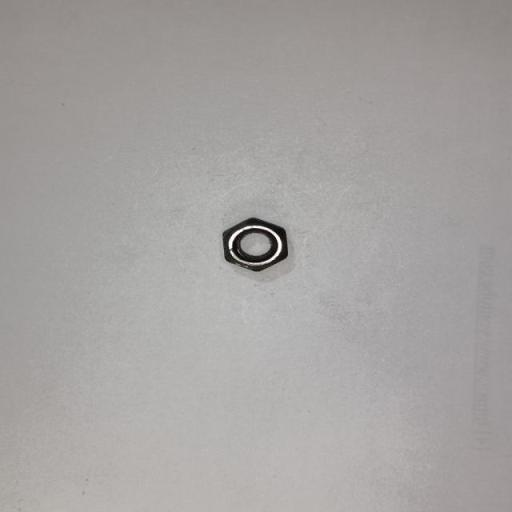Nut: (222, 217, 288, 273)
